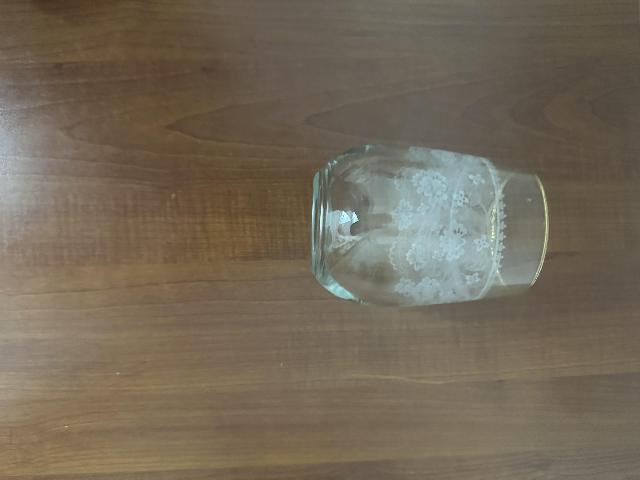Cam: (310, 144, 550, 311)
